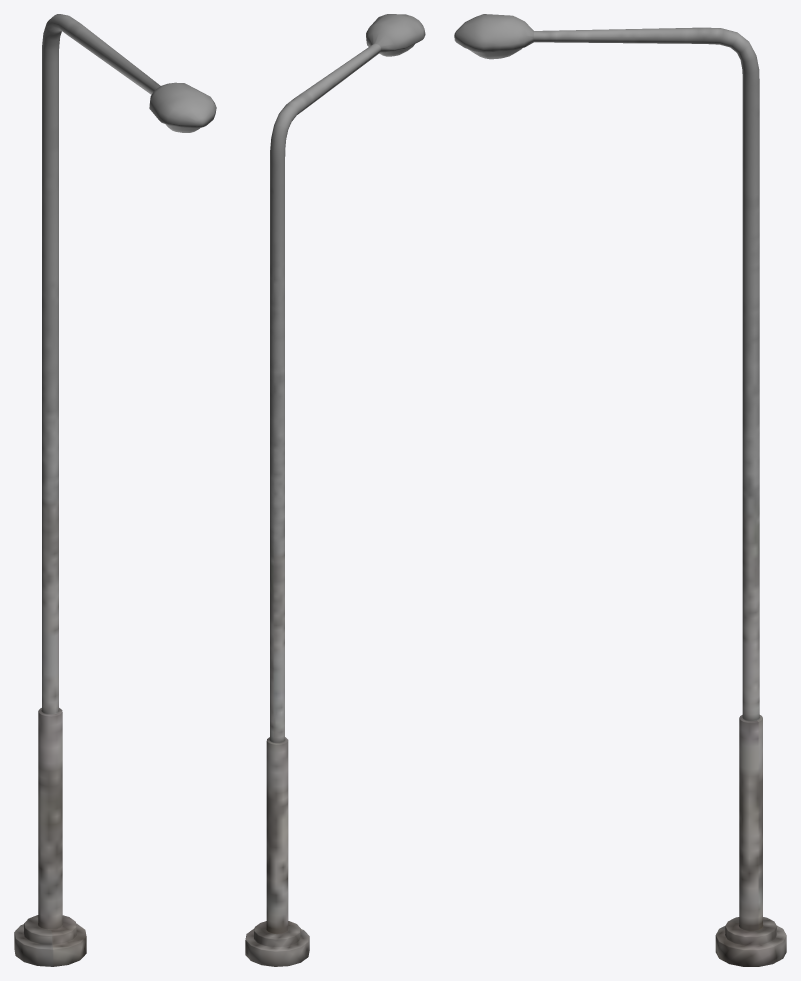
Rendered from lamp_389.glb.
3 renders of one model, left to right at view 1: azimuth 30°, elevation 25°; view 2: azimuth 150°, elevation 25°; view 3: azimuth 270°, elevation 25°, orthographic. The views are drawn at different scales.
Parts seen in each view (by area): view 1: lamp_389; view 2: lamp_389; view 3: lamp_389.
Boxes of the visible parts, x1,y1,x2,y2 form: lamp_389: (14, 14, 216, 966); lamp_389: (245, 14, 425, 966); lamp_389: (454, 14, 786, 966).
Size of the model in its own units: 0.317 by 4.7 by 1.52.
1 material, 1 textured.
